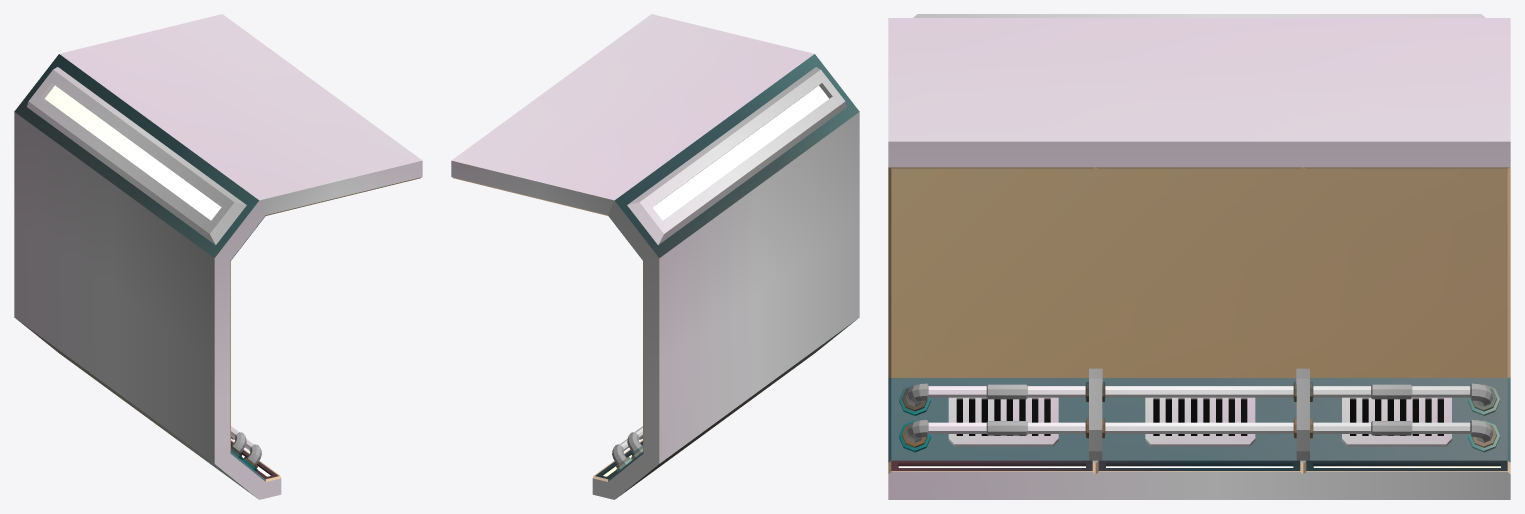
Rendered from C_NoFloor.fbx.
3 renders of one model, left to right at view 1: azimuth 30°, elevation 25°; view 2: azimuth 150°, elevation 25°; view 3: azimuth 270°, elevation 25°, orthographic. The views are drawn at different scales.
Parts seen in each view (by area): view 1: C_NoFloor; view 2: C_NoFloor; view 3: C_NoFloor.
Boxes of the visible parts, bbox=[...] form: C_NoFloor: bbox=[14, 14, 422, 499]; C_NoFloor: bbox=[451, 14, 859, 499]; C_NoFloor: bbox=[888, 14, 1510, 499].
Size of the model in its own units: 240 by 330 by 400.
